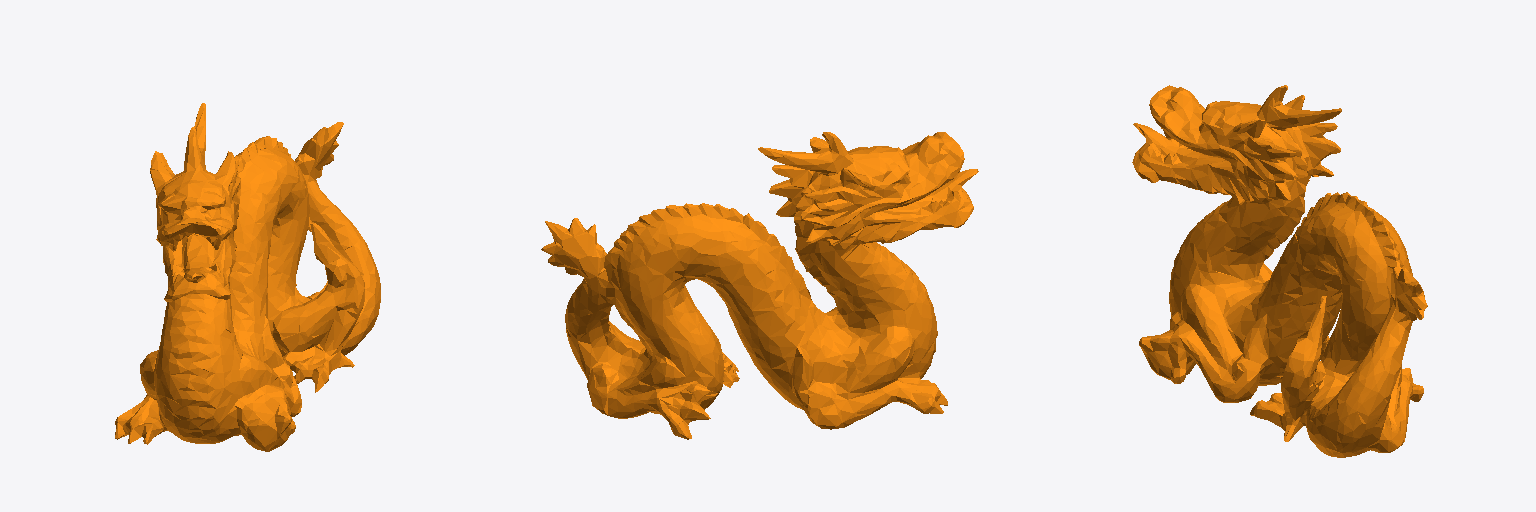
The model's file is GoldenDragon.obj.
3 views of the same model, side by side, from view 1: azimuth 30°, elevation 25°; view 2: azimuth 150°, elevation 25°; view 3: azimuth 270°, elevation 25° (orthographic).
Parts seen in each view (by area): view 1: Object02; view 2: Object02; view 3: Object02.
Boxes of the visible parts, x1,y1,x2,y2 form: Object02: [115, 103, 380, 451]; Object02: [541, 132, 978, 439]; Object02: [1132, 85, 1427, 457].
Bounding box in the file's own units: 0.58 × 0.4948 × 0.4683.